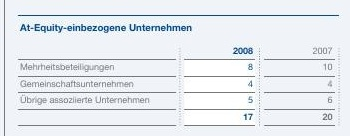table: (0, 0, 350, 136)
